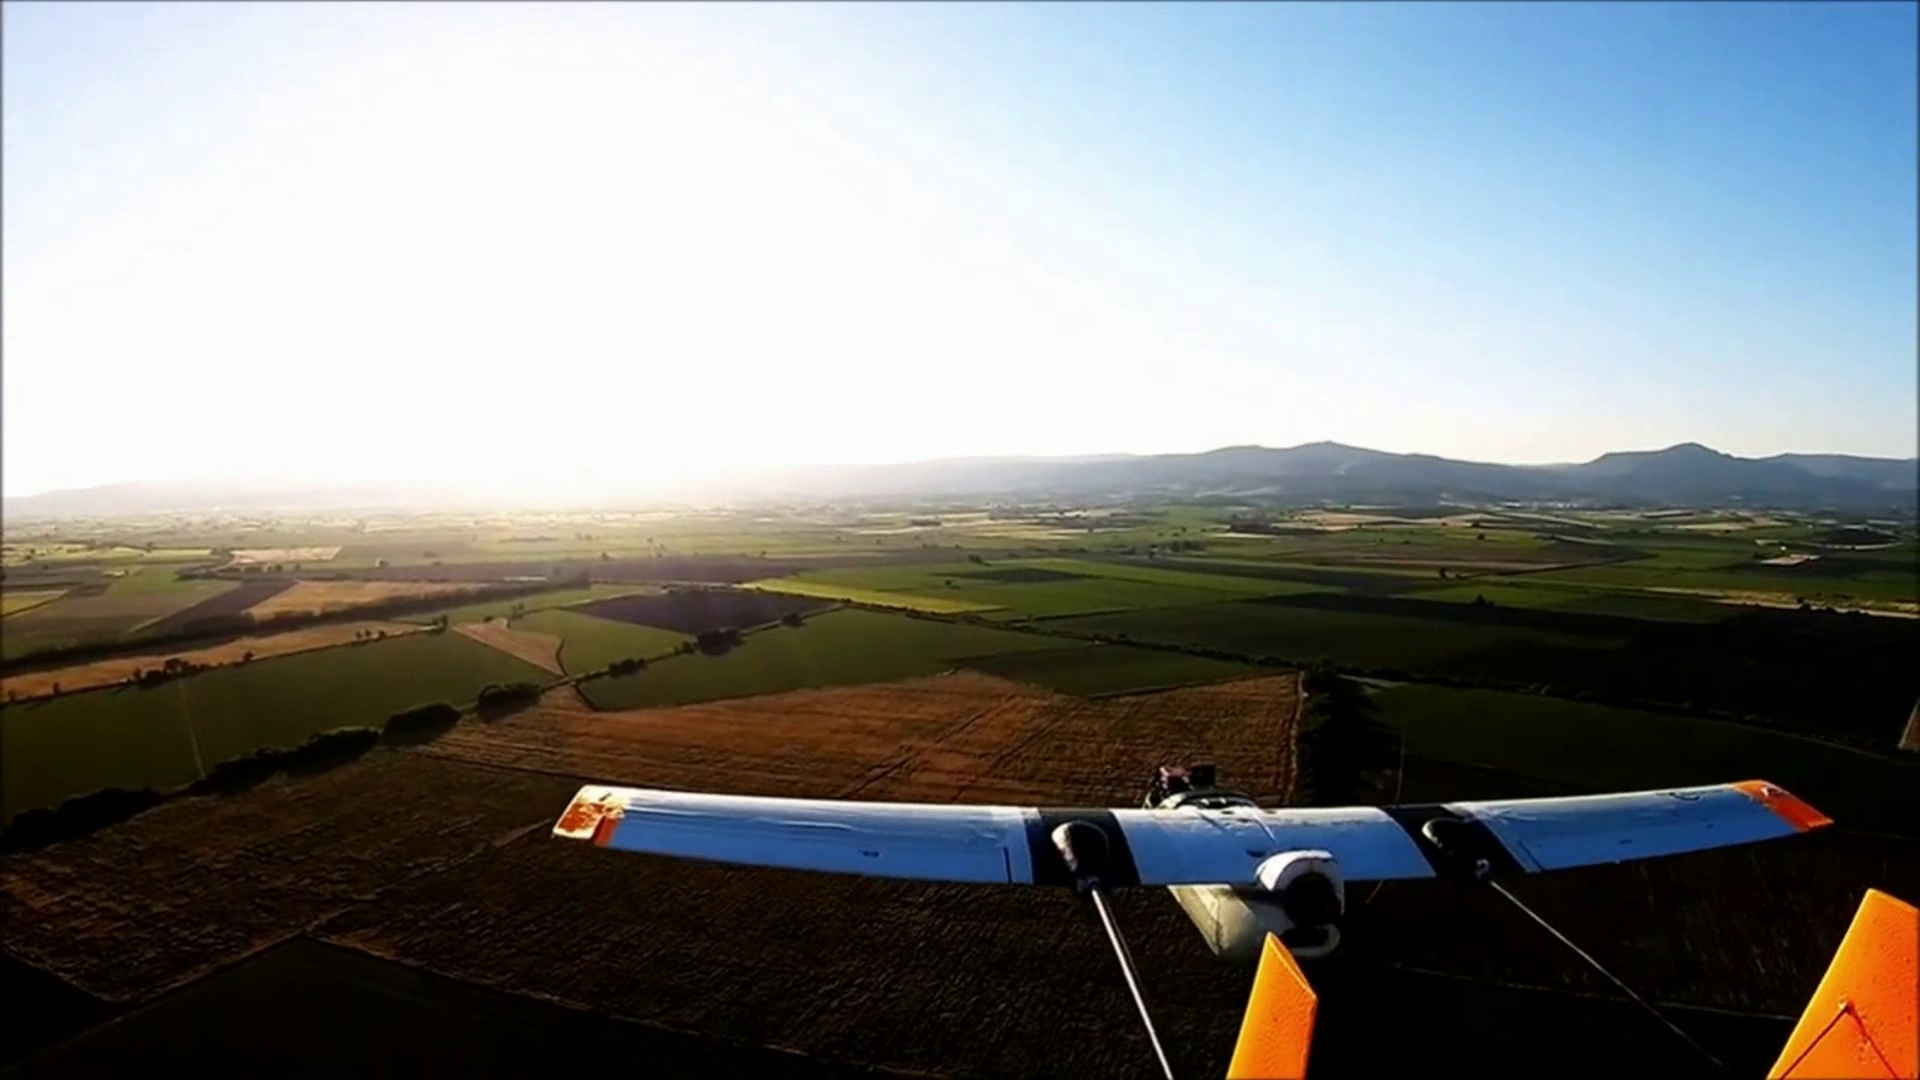airplane: (546, 764, 1837, 1045)
